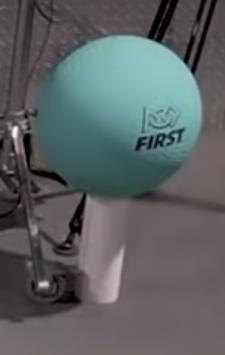algae: (35, 35, 202, 198)
coral: (76, 194, 130, 304)
